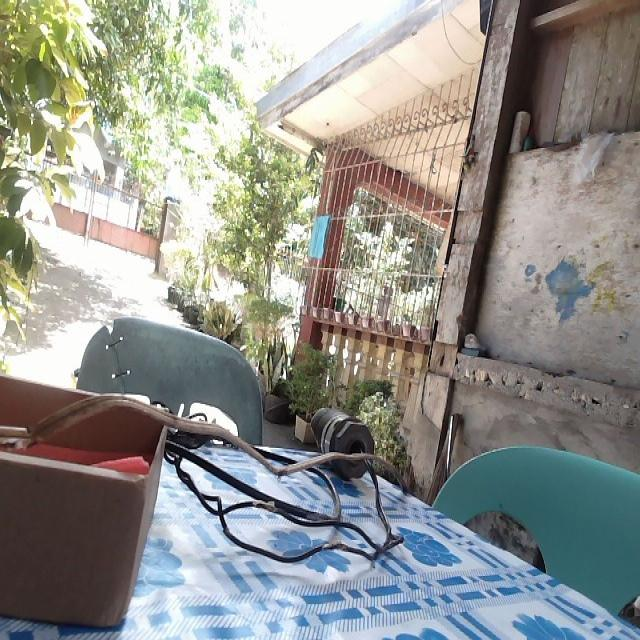-: (253, 498, 273, 514), (325, 540, 345, 552), (275, 466, 286, 478)
